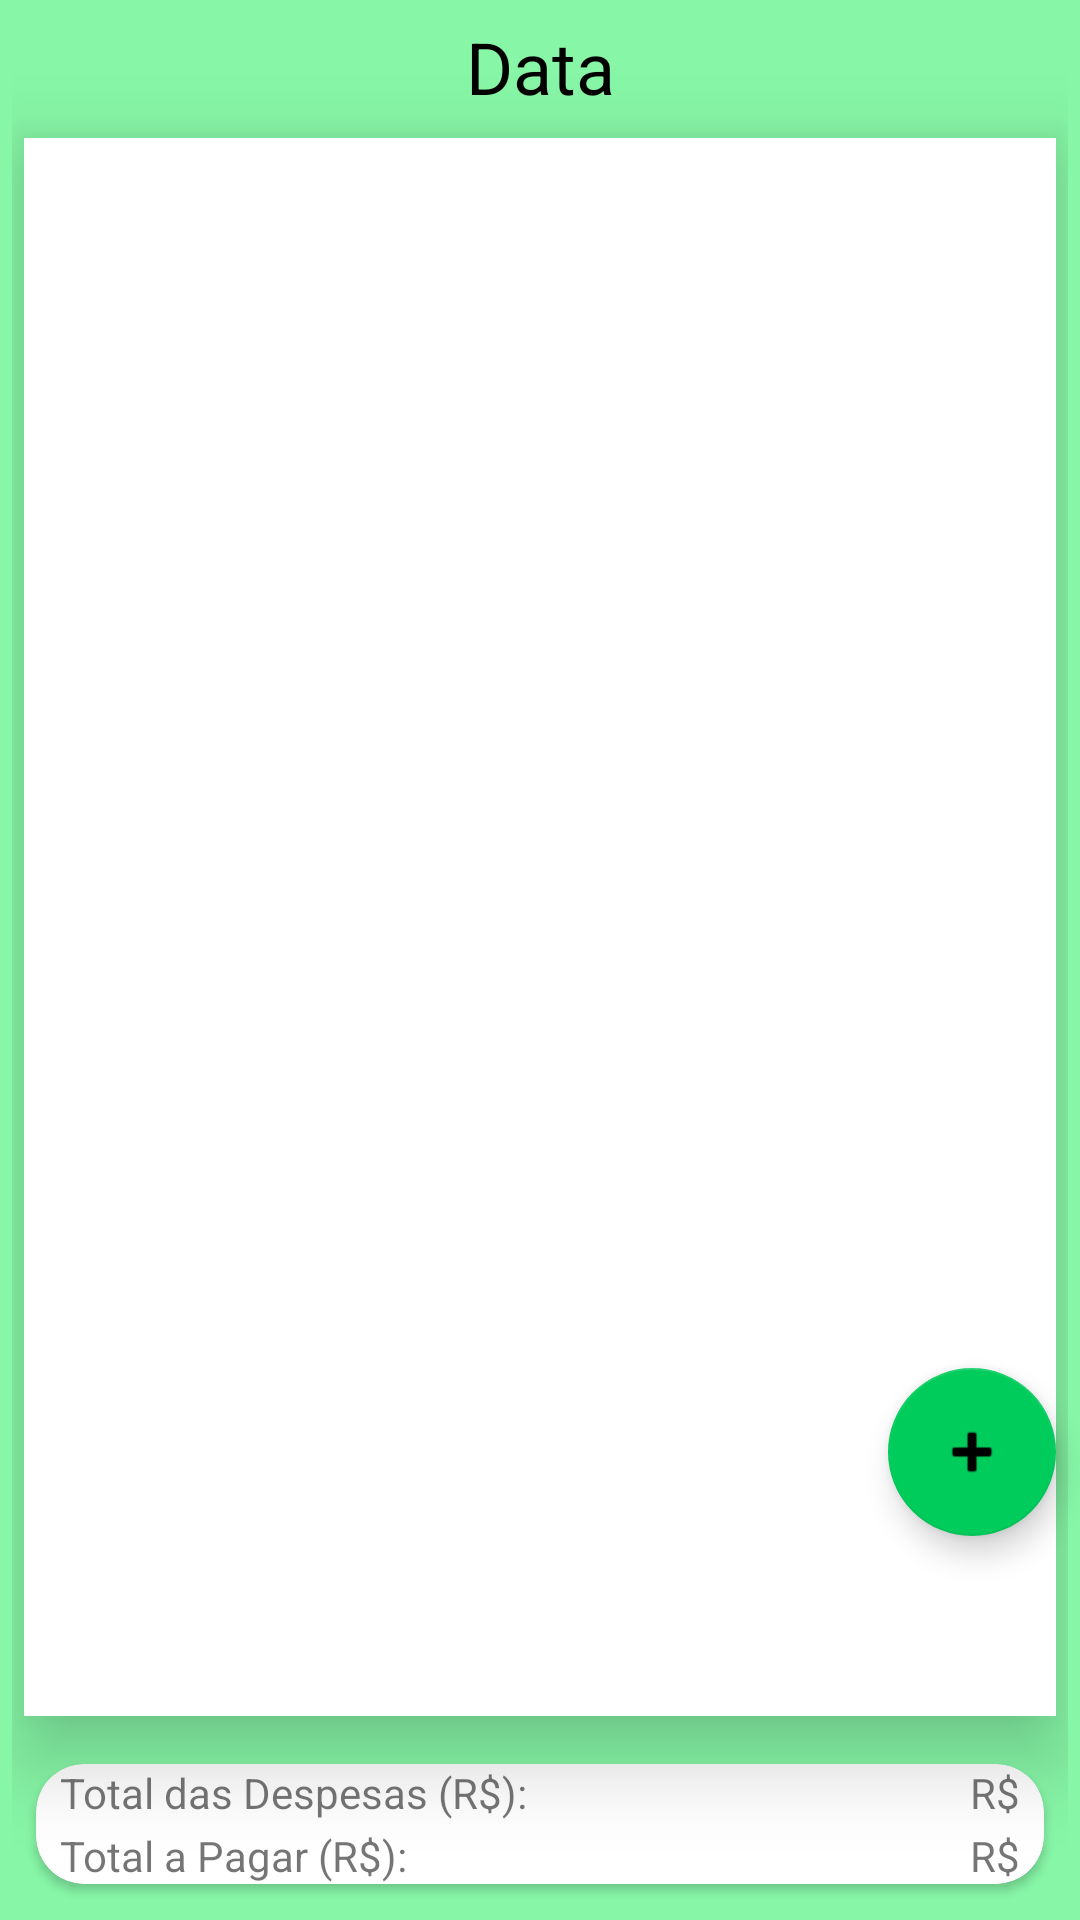

Screen size 1080*1920. Icon name, then its box in pixels as (x1, y1, x2, y2):
add: (888, 1368, 1056, 1536)
